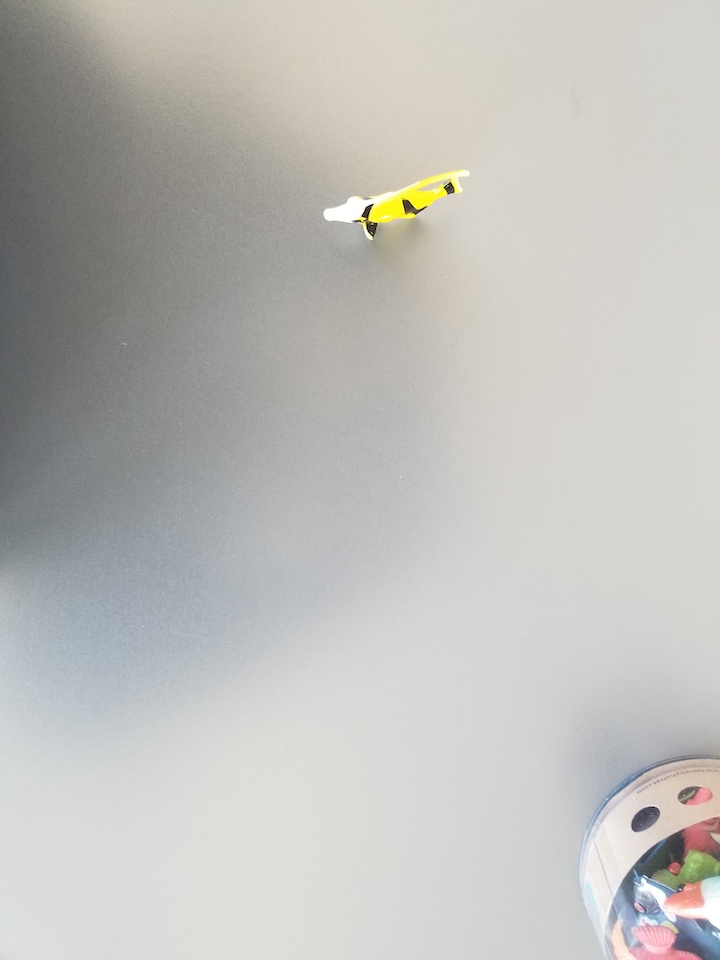danger: (322, 167, 472, 243)
